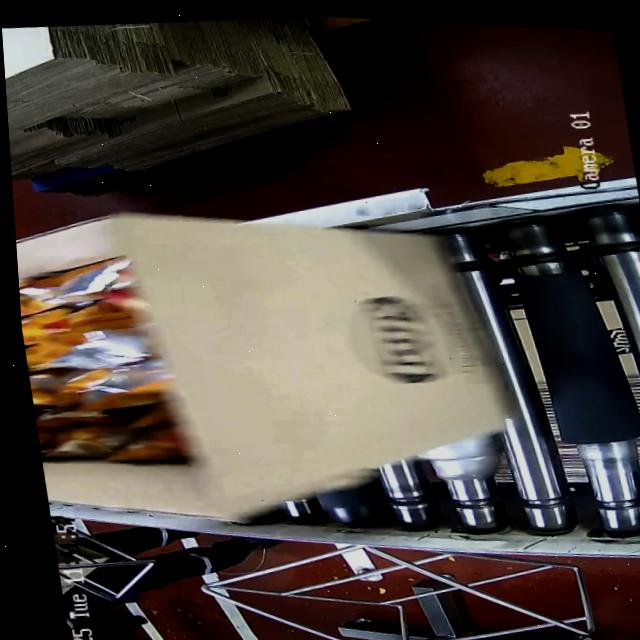FRENCH_CHEESE: (17, 249, 213, 471)
